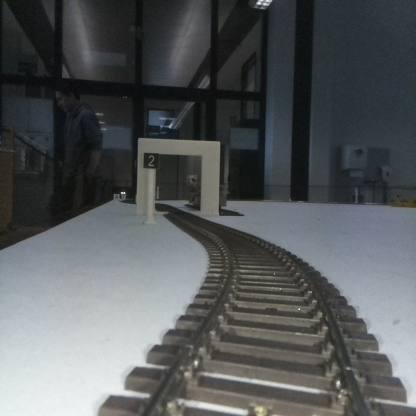black-info-2: (143, 152, 158, 222)
